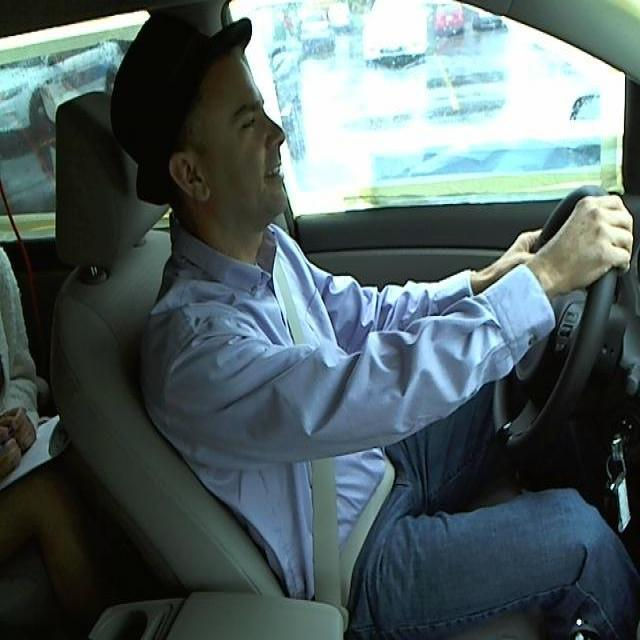without_using_phone: (86, 17, 323, 270)
